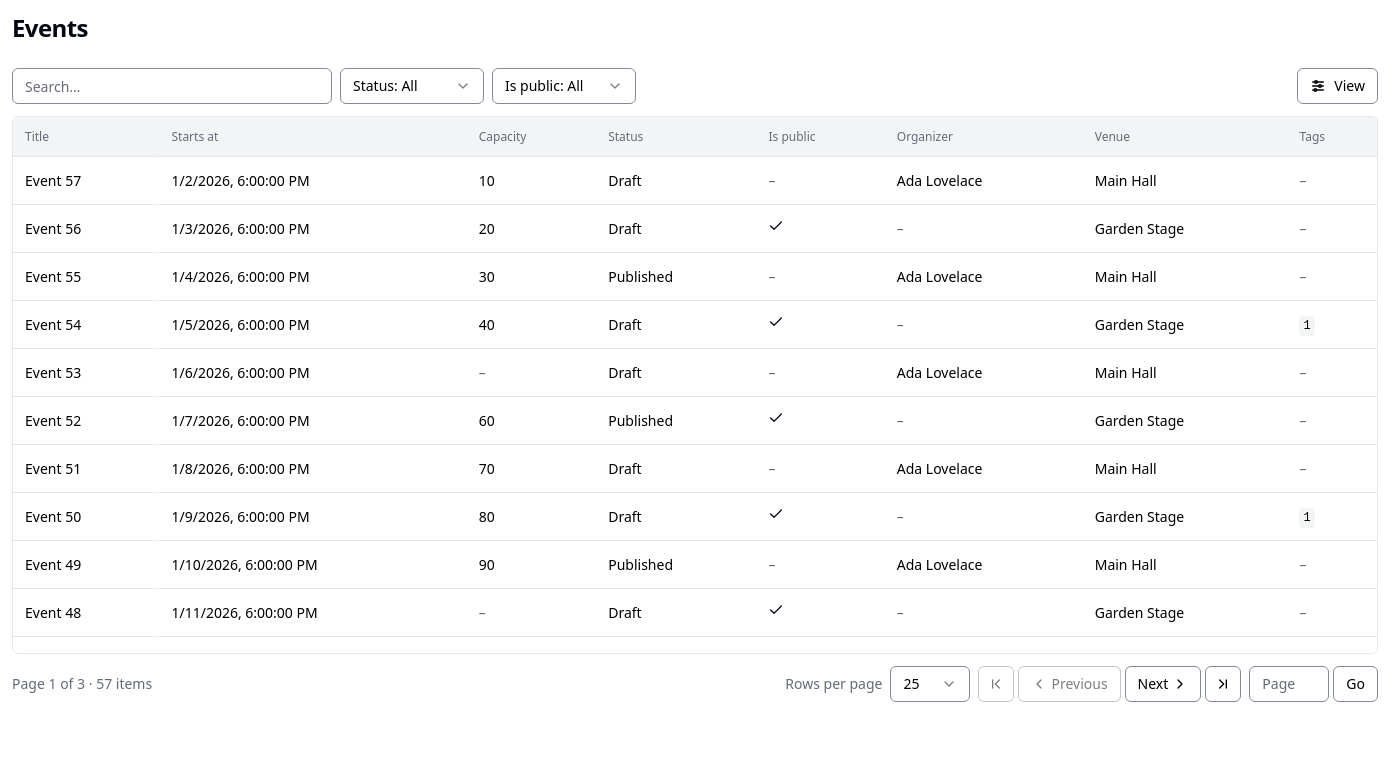
ResourceTable target usage (full stack) › narrows through the declared search param end to end
This screenshot has width=1390, height=780.
In the search field labelled "Search": (172, 86) [12,68,332,104], type "Event 03"
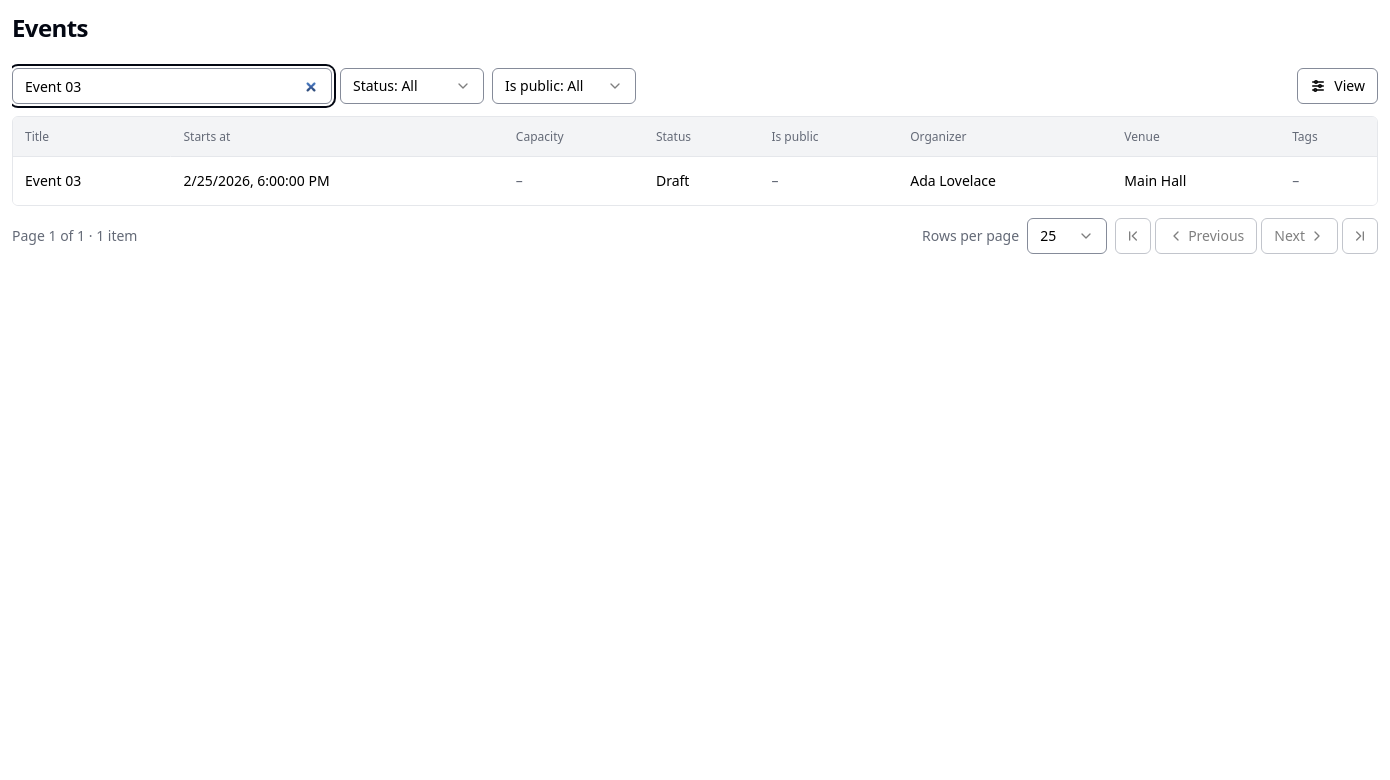
expect the number of rows is 2: met, box [13,117,1377,157]; [13,157,1377,205]
expect the text "Event 03" is shown: met, box [25,171,81,190]
expect the text "Page 1 of 1 · 1 item" is shown: met, box [12,226,138,246]
